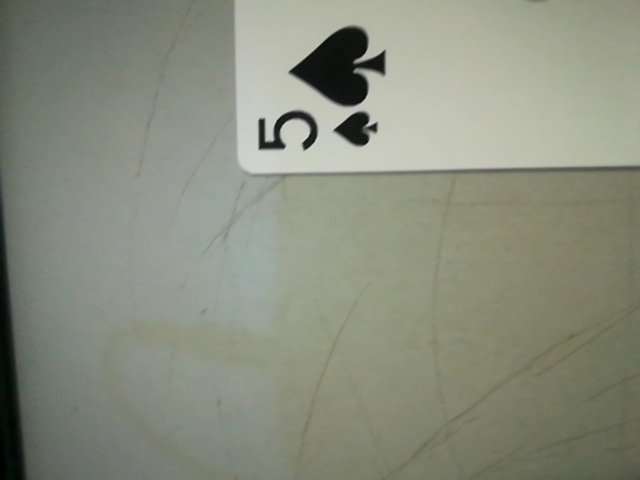ht 5: (244, 86, 395, 170)
